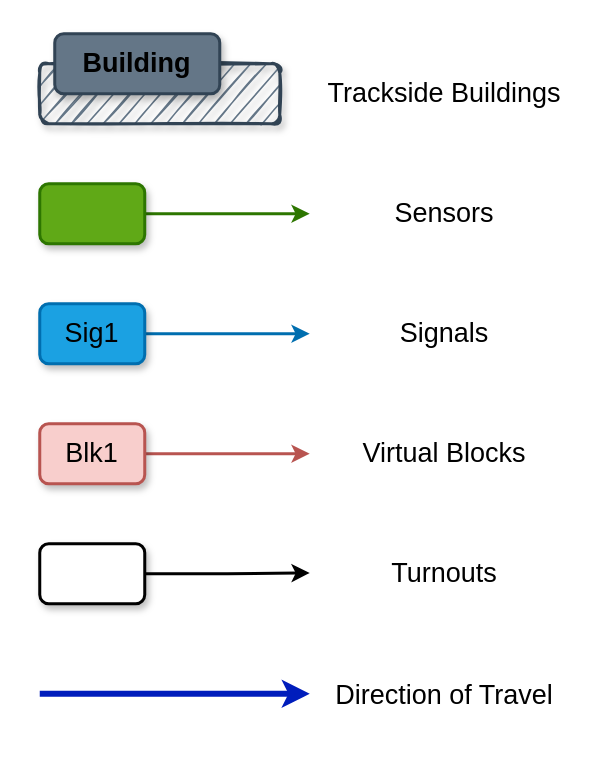
The diagram is 614 pixels wide and 761 high, and some of its shapes have lost their labels. The shapes that lost their labels are listed below. From the top down, each one's centre as x and y in pixels, then its label:
At [93,215]: "Sns1".
At [93,575]: "Trn1".
